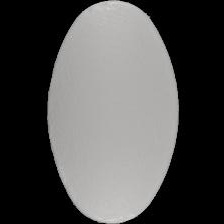55289-142: (0, 0, 224, 224)
